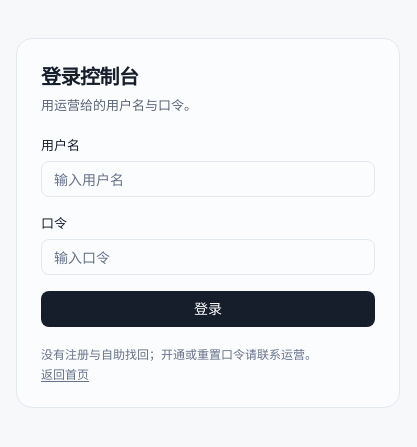
Test: 登录页 › 空表单提交时两条必填提示都出来，且不发请求
This screenshot has width=417, height=447.
Click the button "登录": coordinates (208, 309) [41,291,375,327]
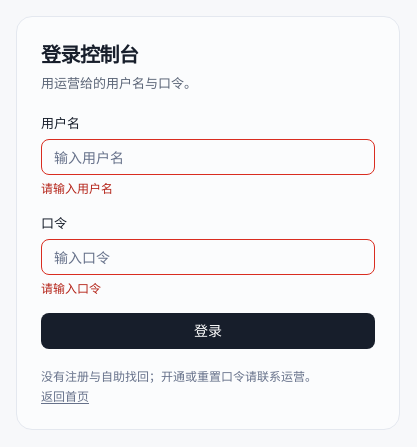
Now the text "请输入用户名" is shown, box [41,181,113,196]
Now the text "请输入口令" is shown, box [41,281,101,296]
